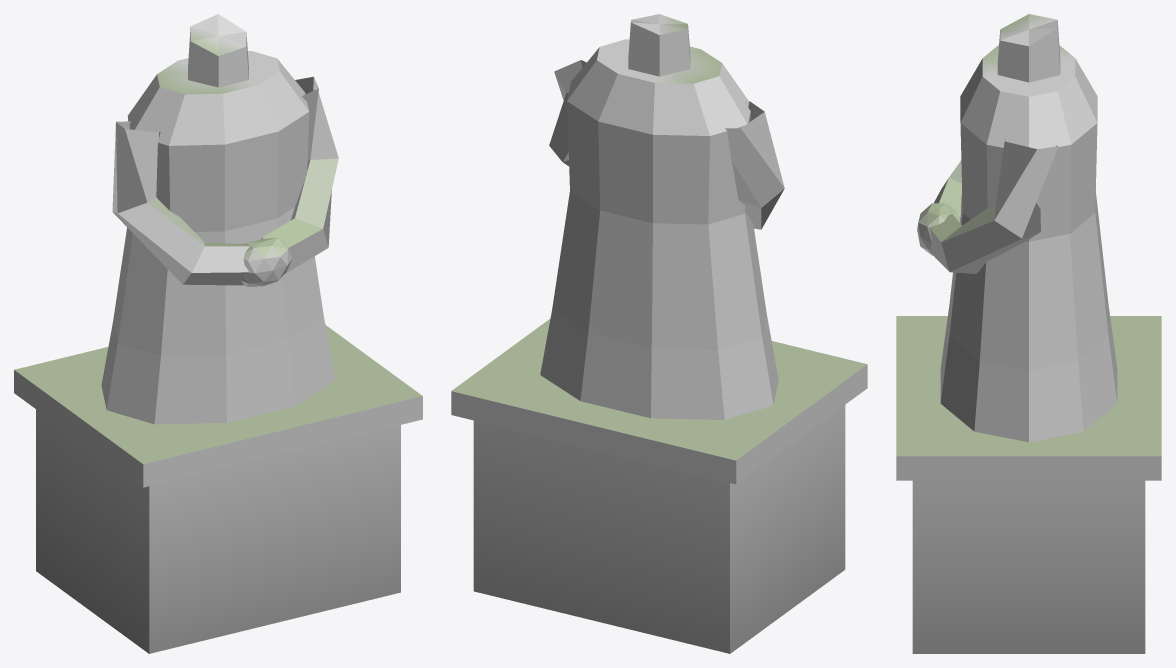
The model's file is statue_headless.glb.
3 renders of one model, left to right at view 1: azimuth 30°, elevation 25°; view 2: azimuth 150°, elevation 25°; view 3: azimuth 270°, elevation 25°, orthographic. The views are drawn at different scales.
Visible parts, largest first — view 1: statue_headless; view 2: statue_headless; view 3: statue_headless.
Boxes of the visible parts, x1,y1,x2,y2 form: statue_headless: (14,14,422,653); statue_headless: (451,14,867,653); statue_headless: (896,14,1161,653).
Bounding box in the file's own units: 1 × 1.89 × 0.8.
